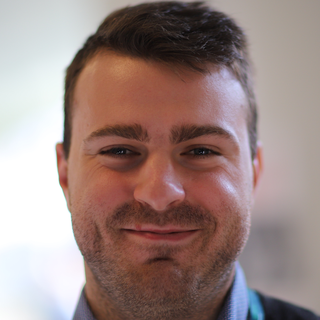eye: (92, 139, 145, 163), (173, 140, 226, 163)
